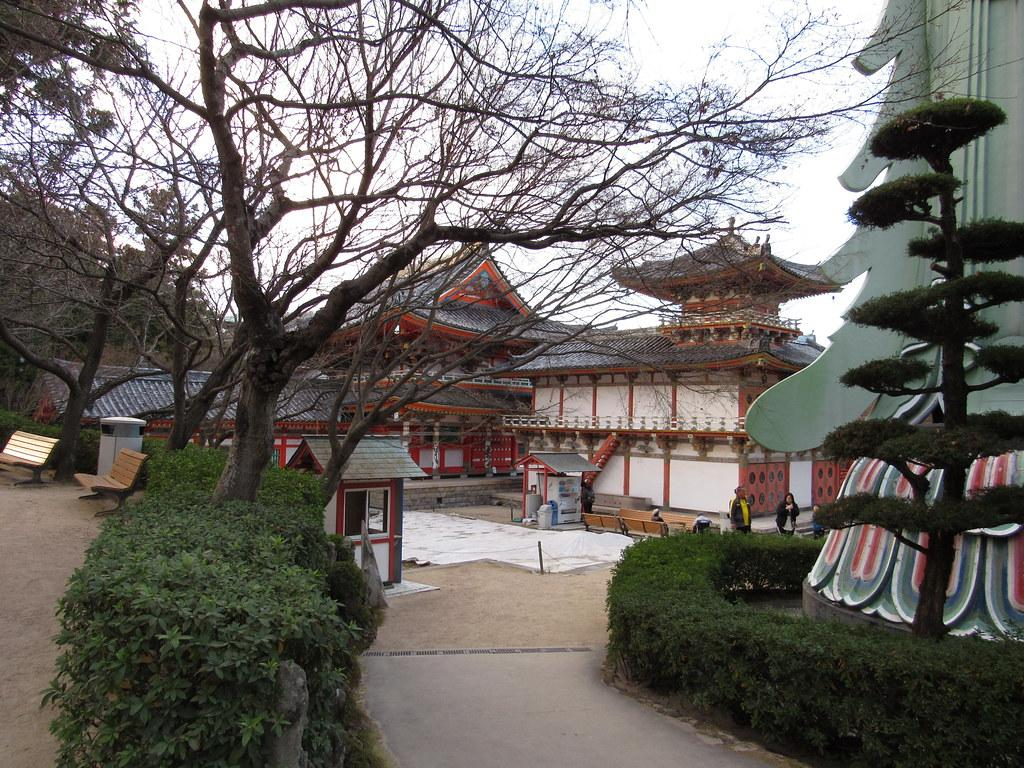temple: (273, 216, 852, 536), (285, 244, 580, 481)
